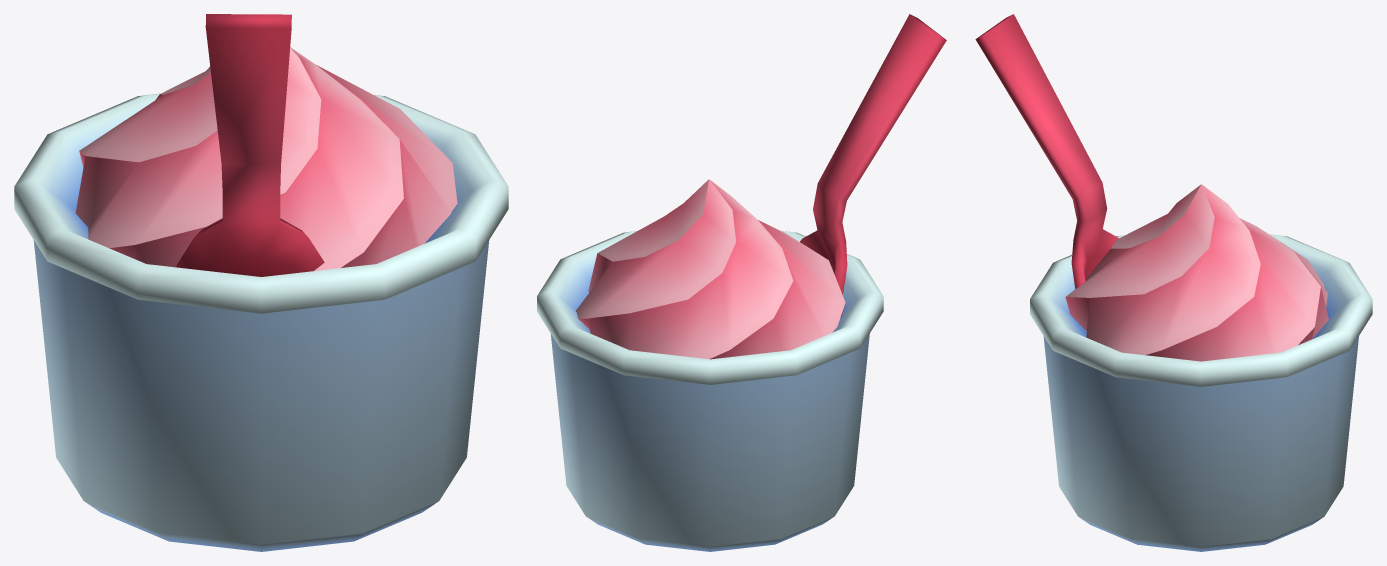
Rendered from m_FrozenYoghurt03.fbx.
3 renders of one model, left to right at view 1: azimuth 30°, elevation 25°; view 2: azimuth 150°, elevation 25°; view 3: azimuth 270°, elevation 25°, orthographic. The views are drawn at different scales.
Parts seen in each view (by area): view 1: m_FrozenYoghurt03; view 2: m_FrozenYoghurt03; view 3: m_FrozenYoghurt03.
Part boxes in pixels (<box>): m_FrozenYoghurt03: <box>14,14,508,551</box>; m_FrozenYoghurt03: <box>537,14,946,551</box>; m_FrozenYoghurt03: <box>975,14,1372,551</box>.
Size of the model in its own units: 13.65 by 18.45 by 15.83.
